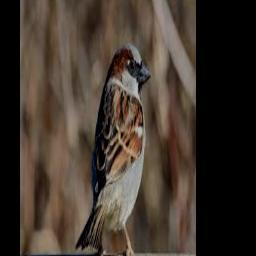Sparrow: (76, 42, 151, 256)
